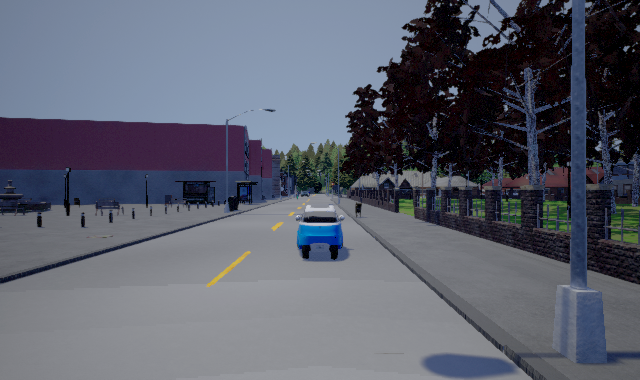vehicle: (295, 202, 345, 260)
